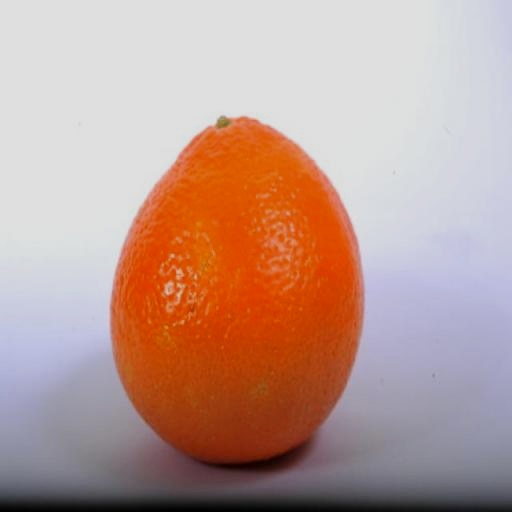fruit: (112, 117, 363, 463)
